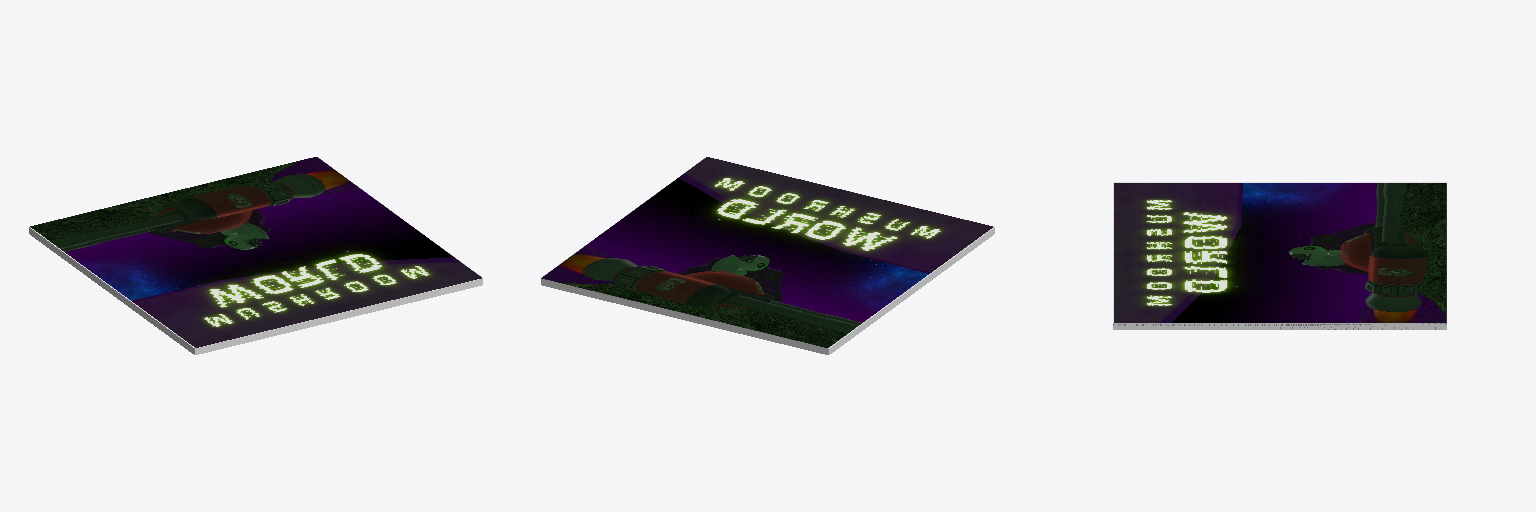
3 renders of one model, left to right at view 1: azimuth 30°, elevation 25°; view 2: azimuth 150°, elevation 25°; view 3: azimuth 270°, elevation 25°, orthographic.
Visible parts, largest first — view 1: Plane; view 2: Plane; view 3: Plane.
Boxes of the visible parts, box(x1,y1,x2,y2) form: Plane: box(29, 157, 482, 354); Plane: box(541, 157, 994, 354); Plane: box(1113, 182, 1446, 329).
Size of the model in its own units: 4 by 0.0914 by 4.
1 materials, 1 textured.